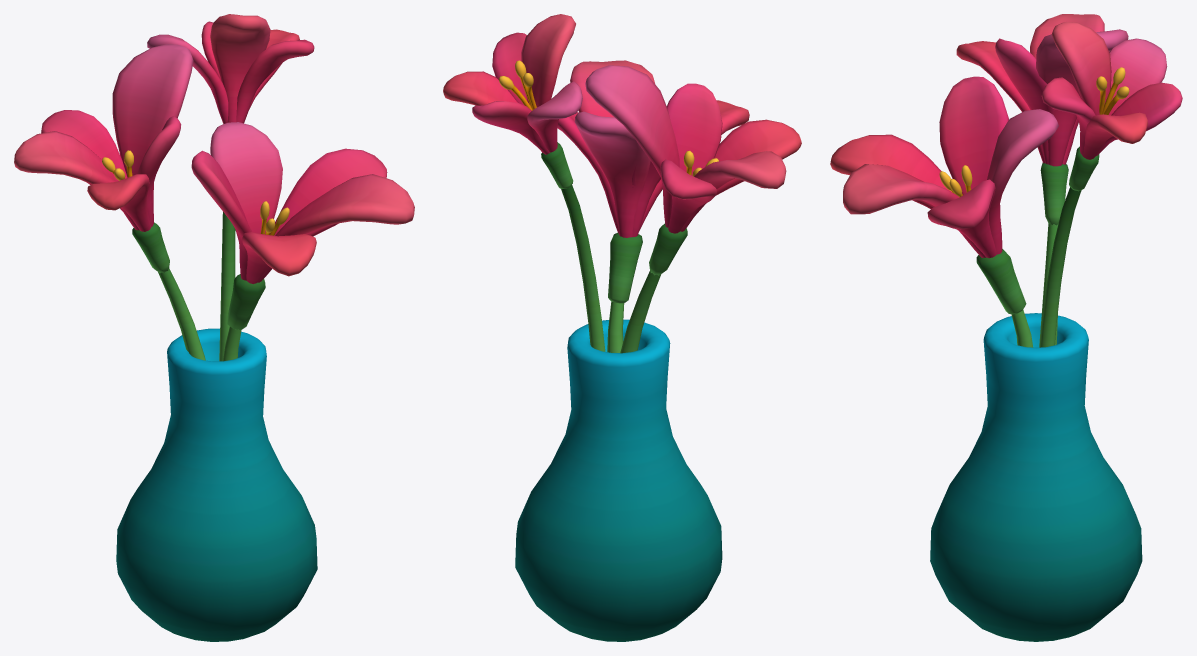
File: Plants_08.glb
3 views of the same model, side by side, from view 1: azimuth 30°, elevation 25°; view 2: azimuth 150°, elevation 25°; view 3: azimuth 270°, elevation 25° (orthographic). The views are drawn at different scales.
Visible parts, largest first — view 1: Plants_08; view 2: Plants_08; view 3: Plants_08.
Boxes of the visible parts, x1=… form: Plants_08: x1=14, y1=14, x2=414, y2=641; Plants_08: x1=443, y1=14, x2=801, y2=641; Plants_08: x1=830, y1=14, x2=1182, y2=641.
Size of the model in its own units: 0.3736 by 0.6655 by 0.3453.
Materials: 1 (1 with a texture image).
